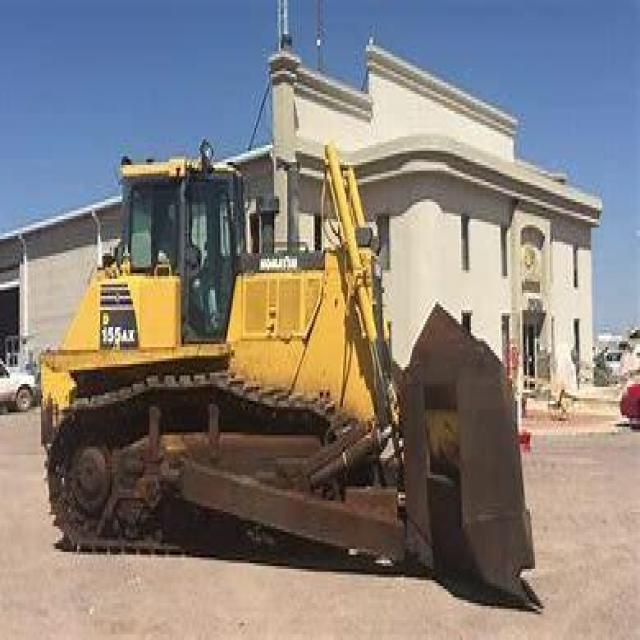buldozerpayloadergrader: (34, 136, 553, 612)
